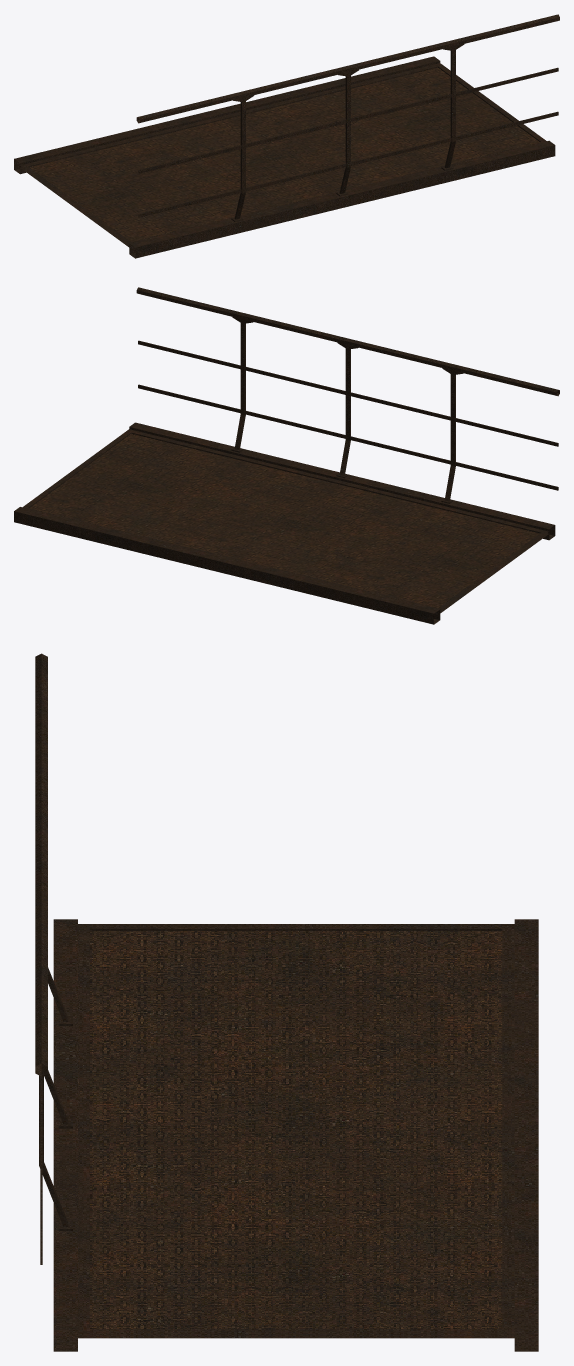
The model's file is catwalk_1.glb.
3 renders of one model, top to bottom at view 1: azimuth 30°, elevation 25°; view 2: azimuth 150°, elevation 25°; view 3: azimuth 270°, elevation 25°, orthographic. The views are drawn at different scales.
Visible parts, largest first — view 1: catwalk_1, handrail_4; view 2: catwalk_1, handrail_4; view 3: catwalk_1, handrail_4.
Boxes of the visible parts, <box> form: catwalk_1: <box>14,56,555,258</box>; handrail_4: <box>136,14,559,221</box>; catwalk_1: <box>14,422,555,624</box>; handrail_4: <box>136,287,559,503</box>; catwalk_1: <box>53,919,538,1351</box>; handrail_4: <box>35,653,72,1264</box>.
Size of the model in its own units: 4 by 1.31 by 2.08.
2 materials, 2 textured.
